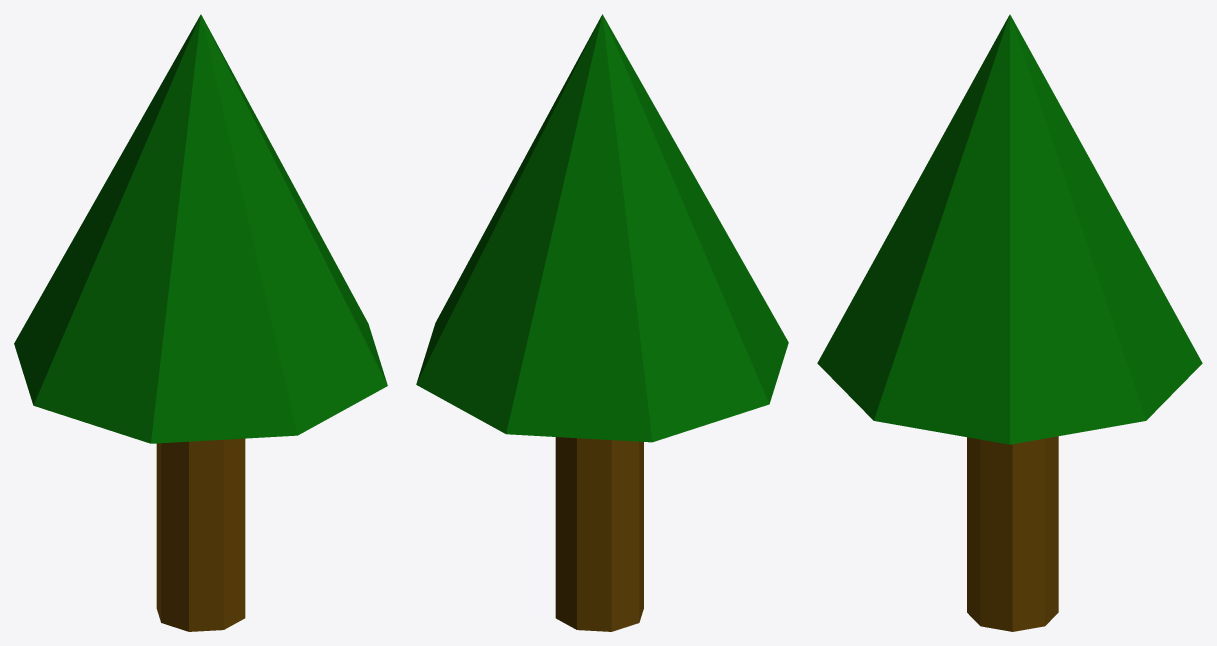
The model's file is Model_BrokenTree.fbx.
The picture shows the model from 3 angles, left to right: view 1: azimuth 30°, elevation 25°; view 2: azimuth 150°, elevation 25°; view 3: azimuth 270°, elevation 25°; orthographic projection.
Visible parts, largest first — view 1: polySurface8, polySurface9; view 2: polySurface8, polySurface9; view 3: polySurface8, polySurface9.
Part boxes in pixels (x1=…): polySurface8: x1=14, y1=14, x2=387, y2=443; polySurface9: x1=156, y1=438, x2=245, y2=631; polySurface8: x1=416, y1=14, x2=788, y2=442; polySurface9: x1=555, y1=437, x2=643, y2=631; polySurface8: x1=817, y1=14, x2=1202, y2=444; polySurface9: x1=967, y1=436, x2=1058, y2=631.
Bounding box in the file's own units: 3.58 × 6.13 × 3.58.
